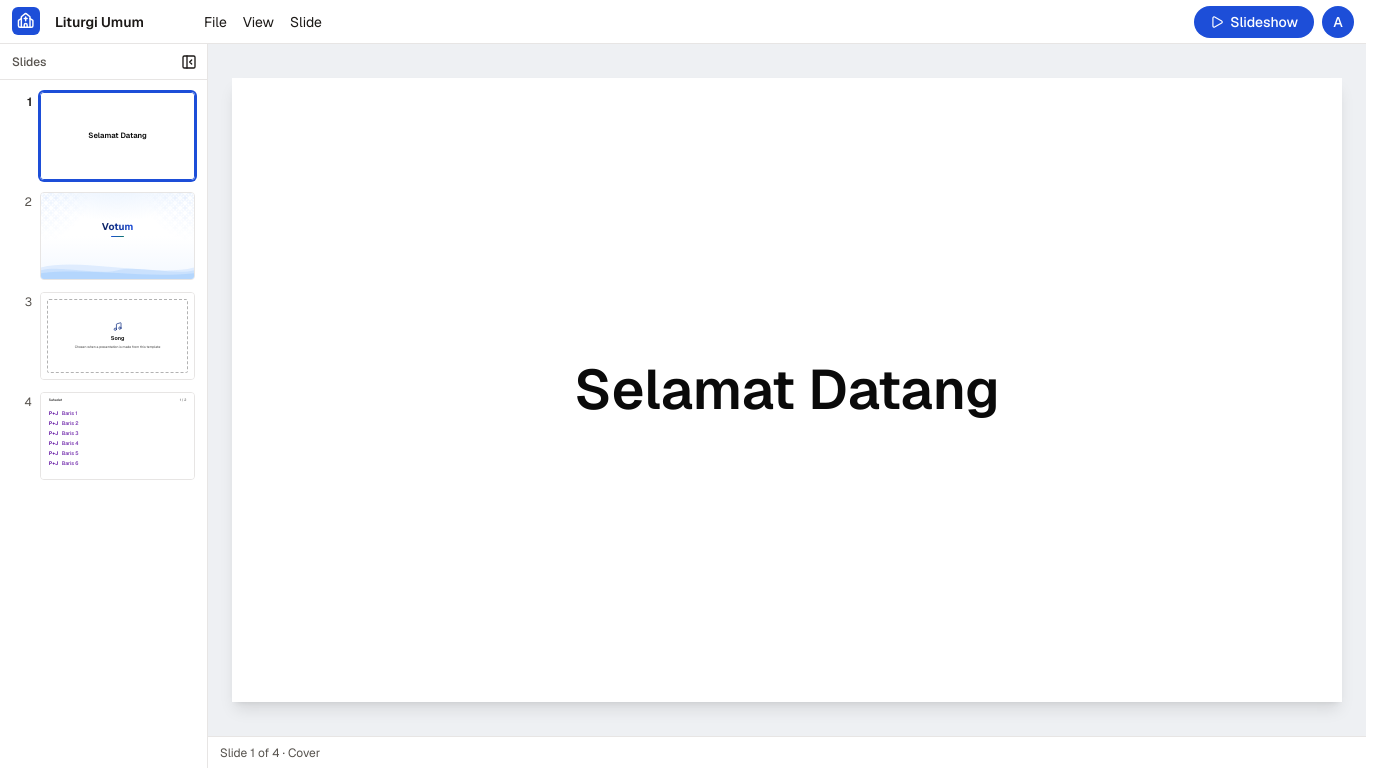
slides can still be changed from the keyboard while the panel is closed
Click the button named "Hide the slide panel": (189, 62) [175, 48, 203, 76]
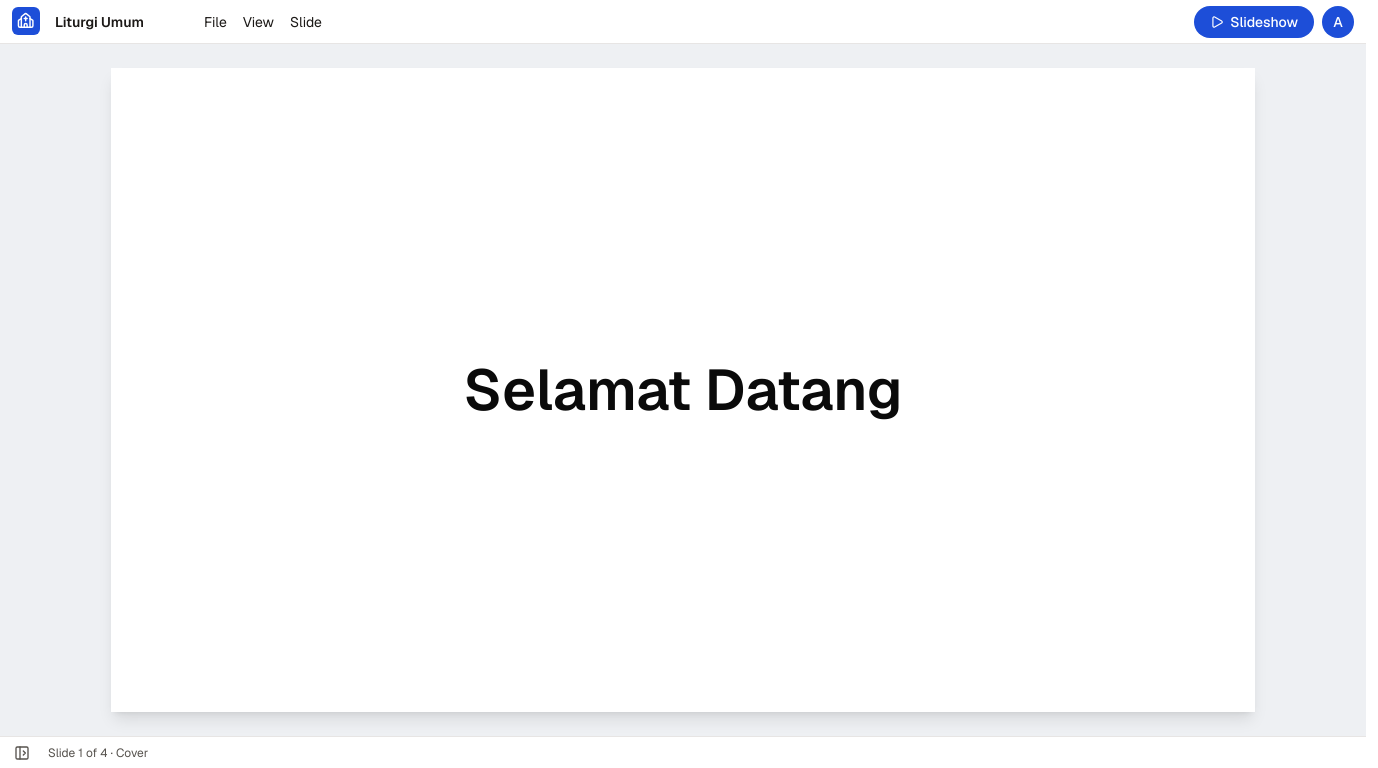
Press ArrowRight
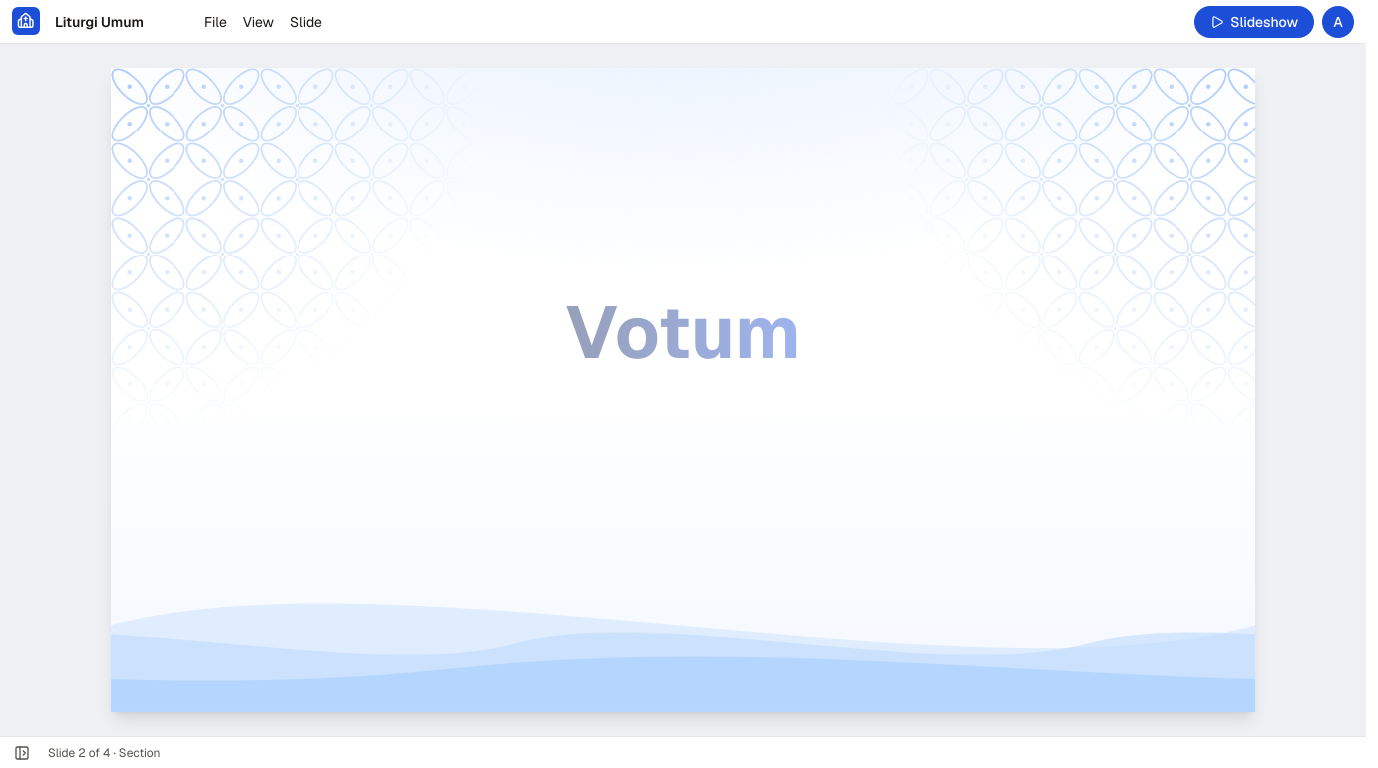
Check: the text "Slide 2 of 4 · Section" is shown, box [44, 744, 164, 760]
